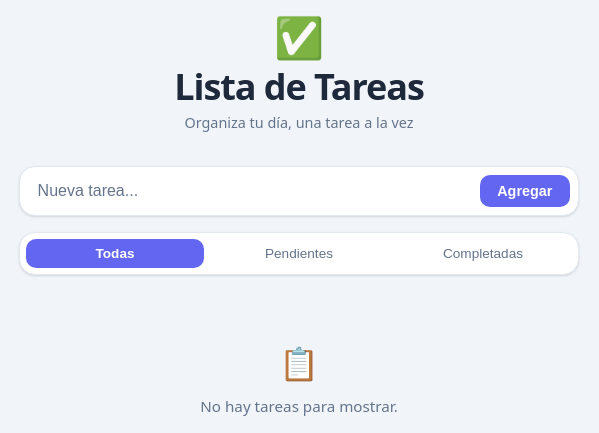
Test: App — filtrar tareas por estado › el filtro "Pendientes" muestra solo tareas sin completar
The width and height of the screenshot is (599, 433).
Type "Tarea pendiente" into the field with placeholder "Nueva tarea...".
click(250, 191); type("Tarea pendiente")  # box top-left (28, 175), bottom-right (472, 207)
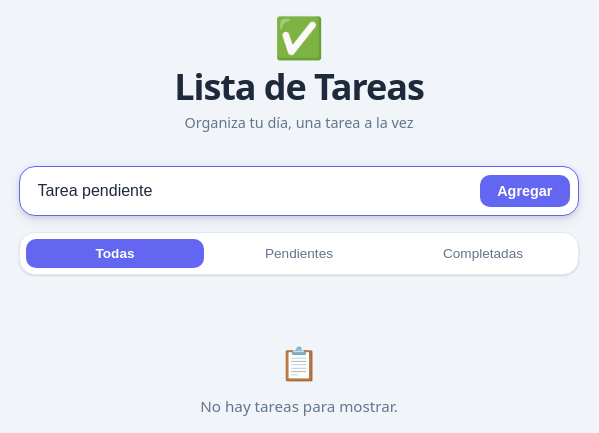
Click the button "Agregar".
click(525, 191)  # box top-left (480, 175), bottom-right (570, 207)
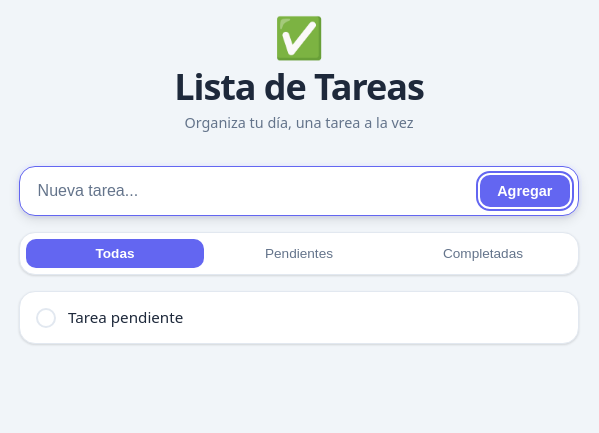
Type "Tarea completada" into the field with placeholder "Nueva tarea...".
click(250, 191); type("Tarea completada")  # box top-left (28, 175), bottom-right (472, 207)
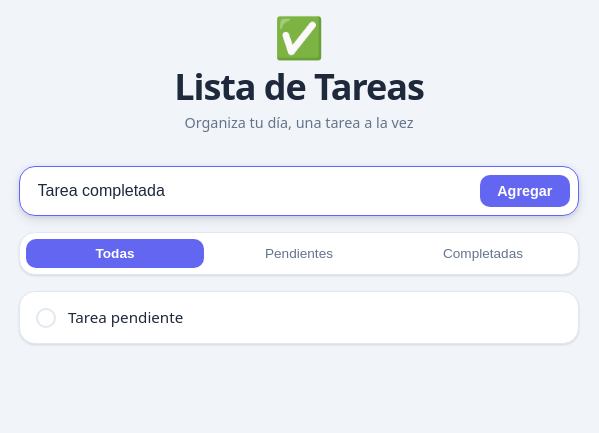
Click the button "Agregar".
click(525, 191)  # box top-left (480, 175), bottom-right (570, 207)
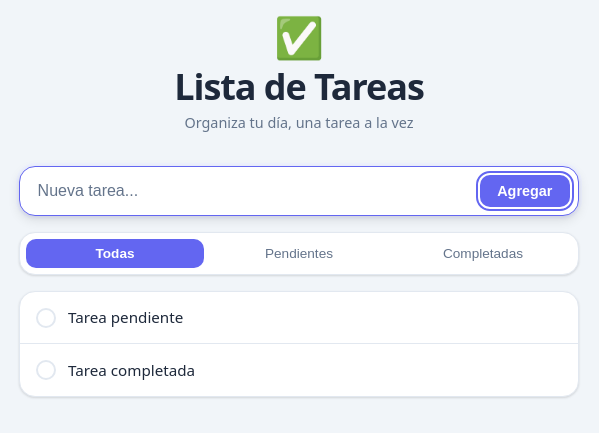
Click the checkbox named "Marcar \"Tarea completada\" como completada".
click(46, 370)  # box top-left (36, 360), bottom-right (56, 380)
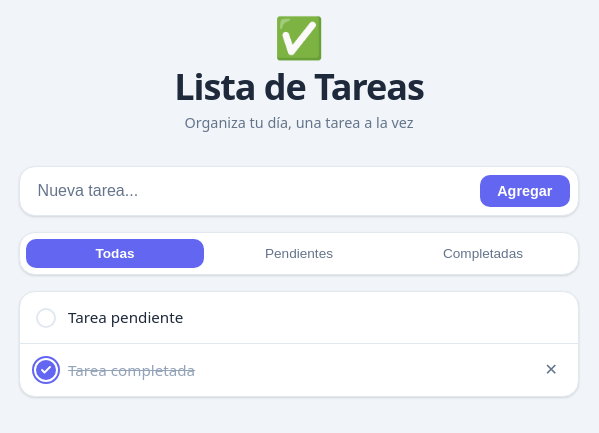
Click the button "Pendientes".
click(299, 254)  # box top-left (210, 239), bottom-right (388, 268)
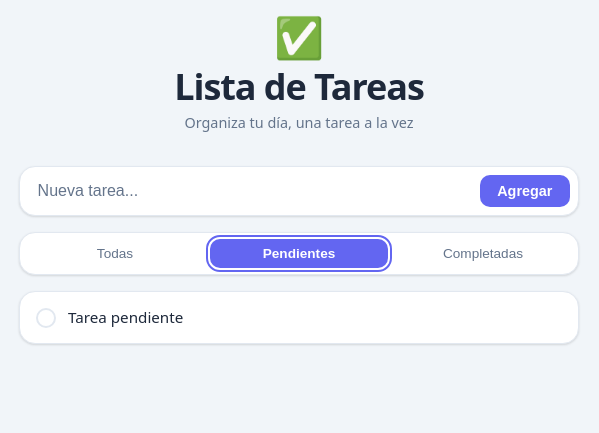
Result: the text "Tarea pendiente" is shown at top-left (68, 307), bottom-right (183, 327)
Result: the text "Tarea completada" is gone
